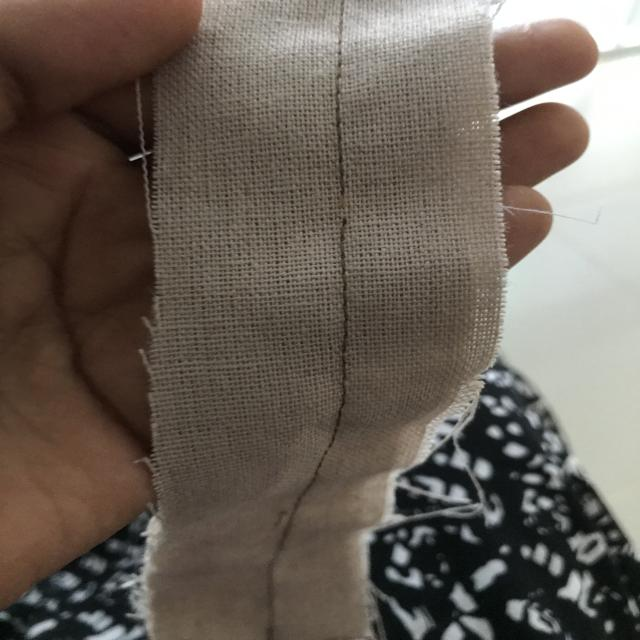broken: (328, 183, 366, 243)
